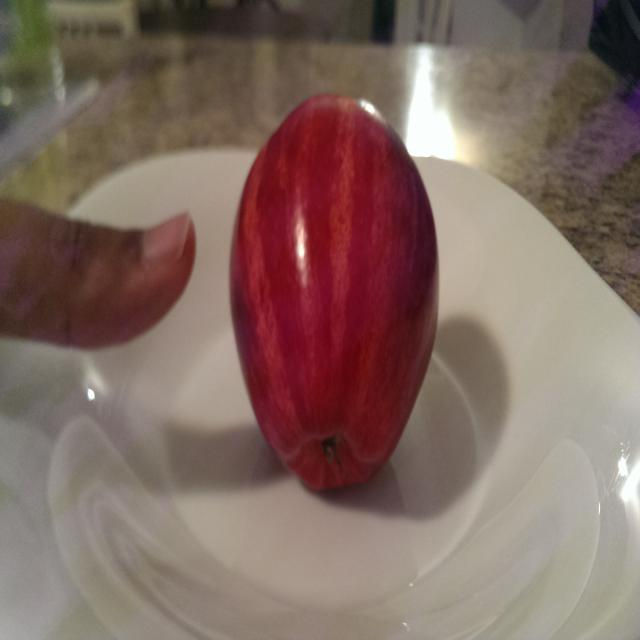apple: (228, 90, 444, 502)
